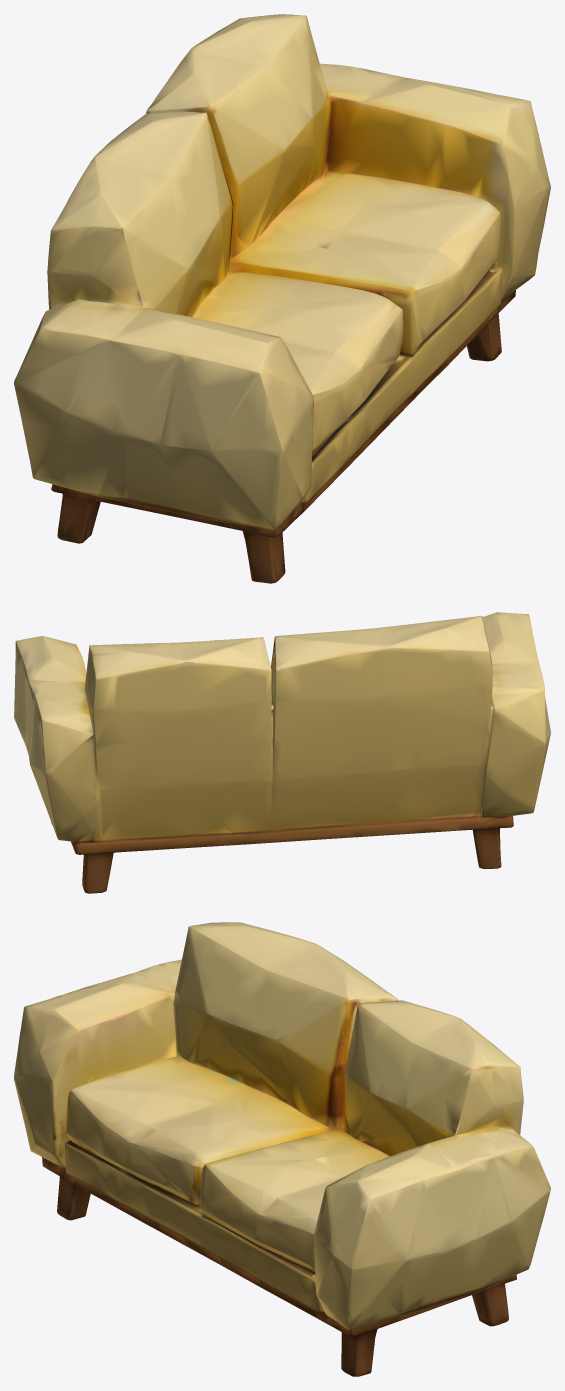
Rendered from sofa.fbx.
3 views of the same model, one above another, from view 1: azimuth 30°, elevation 25°; view 2: azimuth 150°, elevation 25°; view 3: azimuth 270°, elevation 25° (orthographic). The views are drawn at different scales.
Visible parts, largest first — view 1: node_0.001; view 2: node_0.001; view 3: node_0.001.
Boxes of the visible parts, x1,y1,x2,y2 form: node_0.001: [14, 14, 550, 583]; node_0.001: [14, 612, 550, 893]; node_0.001: [14, 922, 550, 1376].
Bounding box in the file's own units: 0.4517 × 0.2223 × 0.4091.
Materials: 1 (1 with a texture image).
